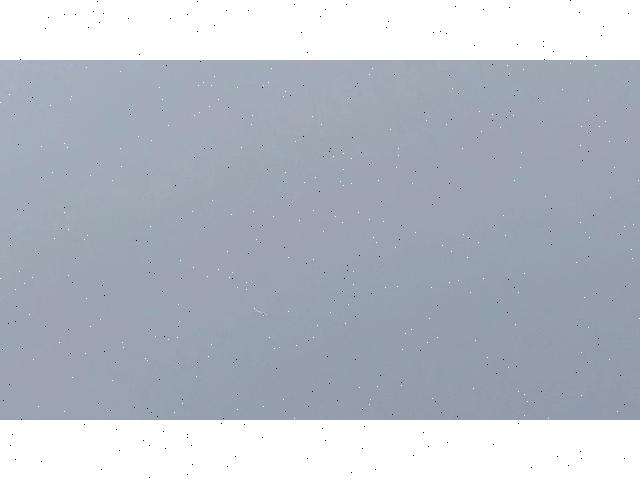Anti-Drone: (252, 307, 272, 317)
